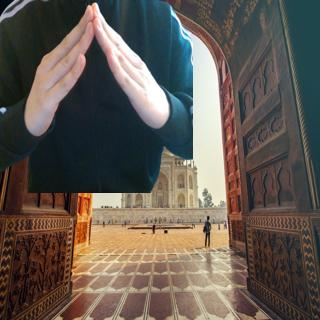HOME: (23, 1, 170, 136)
